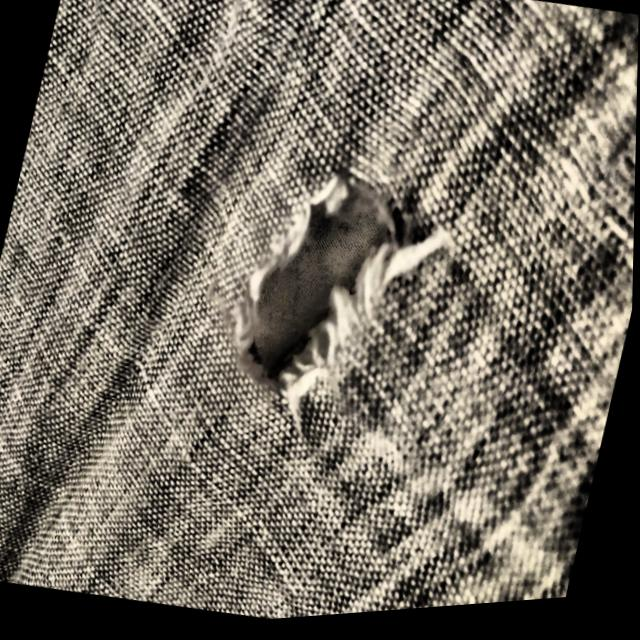Hole: (199, 132, 472, 468)
